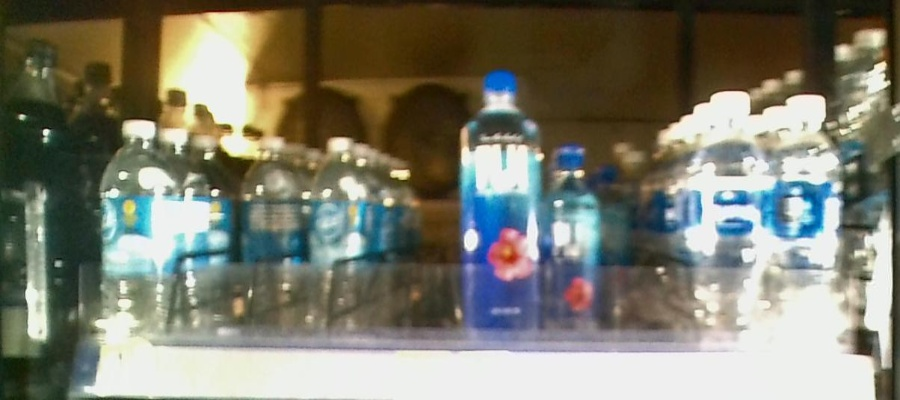bottle: (458, 70, 540, 338), (691, 89, 771, 342), (778, 78, 848, 336), (99, 116, 176, 336), (309, 135, 370, 335), (241, 139, 303, 327), (546, 131, 600, 336), (603, 161, 641, 329)
